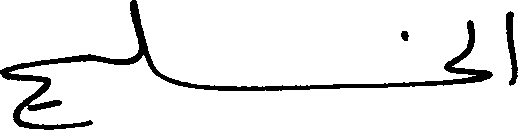ا: (503, 9, 516, 87)
ج: (0, 57, 49, 128)
خ: (395, 31, 489, 85)
ل: (126, 0, 151, 72), (443, 17, 481, 64)
ي: (74, 52, 100, 93)
